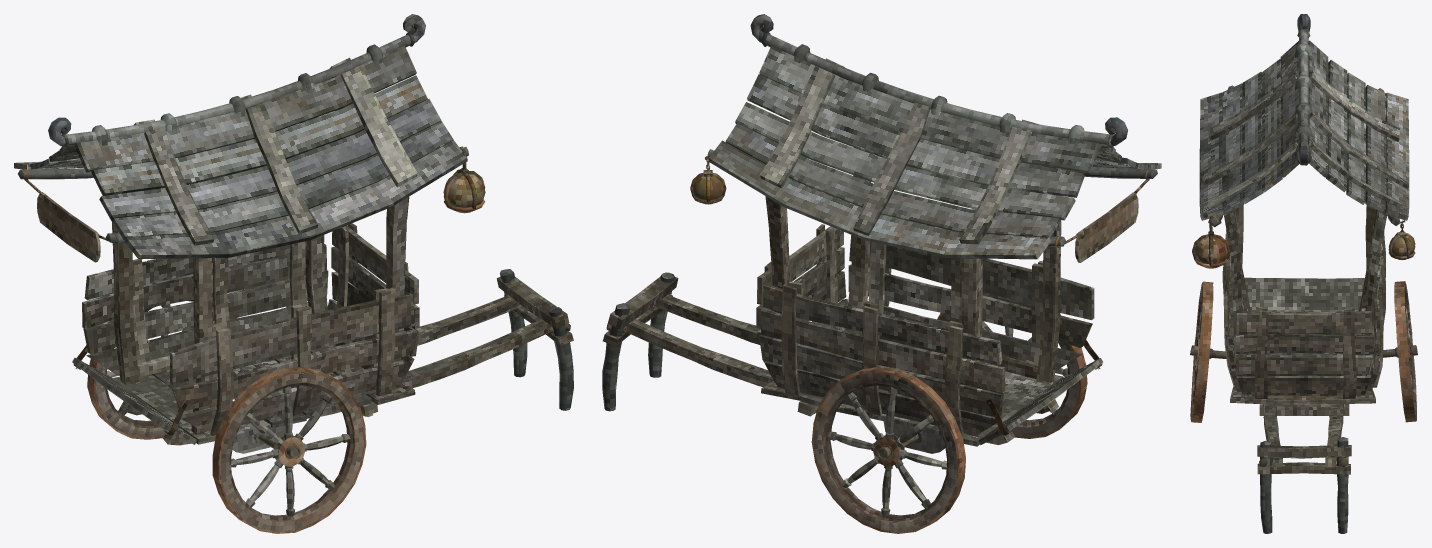
Rendered from cart.glb.
3 views of the same model, side by side, from view 1: azimuth 30°, elevation 25°; view 2: azimuth 150°, elevation 25°; view 3: azimuth 270°, elevation 25° (orthographic). The views are drawn at different scales.
Visible parts, largest first — view 1: cart_OBJ; view 2: cart_OBJ; view 3: cart_OBJ.
Part boxes in pixels (box(x1,y1,x2,y2)): cart_OBJ: box(14, 14, 573, 533); cart_OBJ: box(602, 14, 1161, 533); cart_OBJ: box(1190, 14, 1417, 533).
Size of the model in its own units: 3.78 by 3.05 by 1.81.
Materials: 1 (1 with a texture image).
